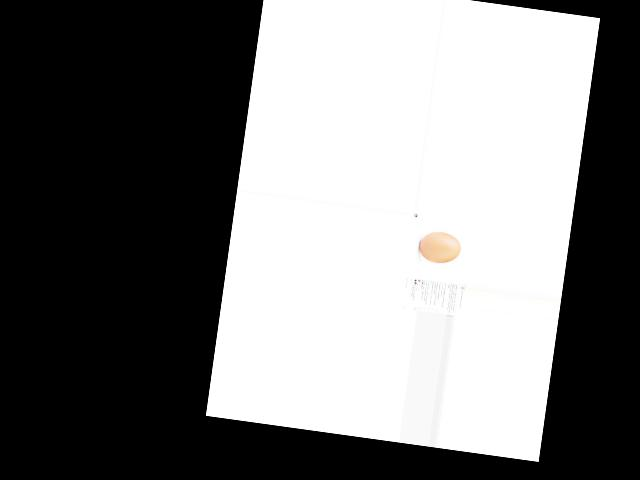egg: (417, 229, 462, 266)
